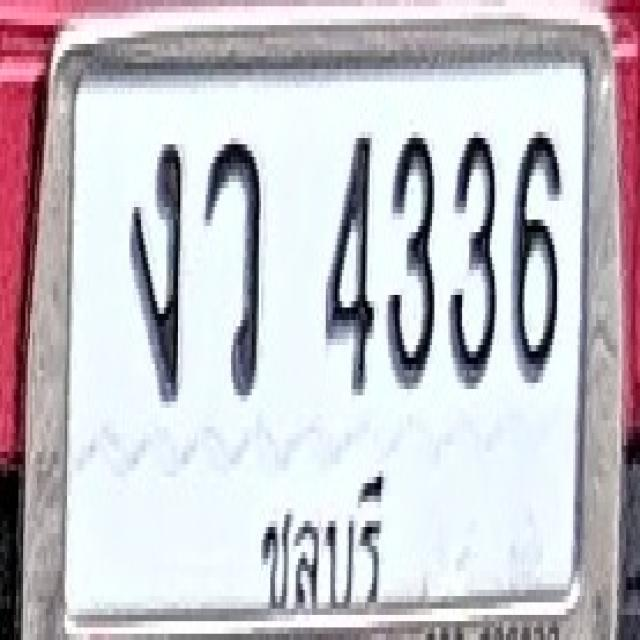3: (448, 129, 497, 386), (386, 132, 434, 389)
4: (324, 132, 374, 395)
6: (511, 125, 562, 383)
A07: (130, 138, 182, 402)
A37: (202, 135, 262, 398)
CBI: (242, 462, 389, 628)
